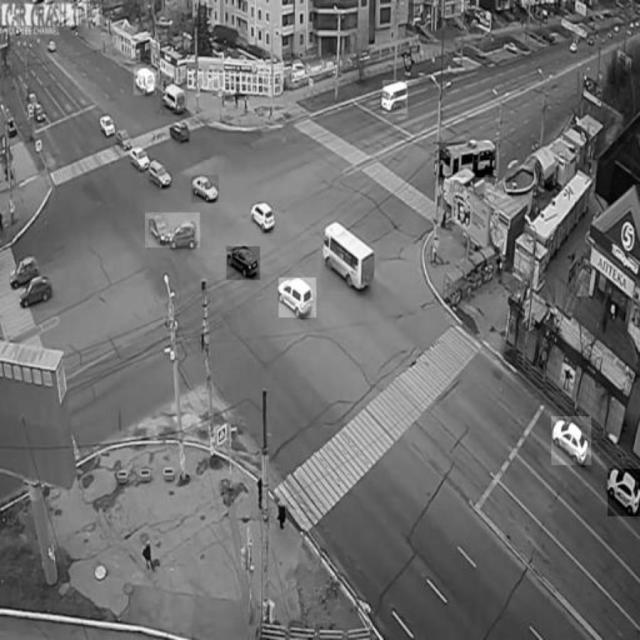accident: (146, 212, 201, 248)
vehicle: (318, 218, 380, 294), (439, 143, 496, 178), (552, 417, 592, 465), (608, 470, 640, 517), (279, 277, 316, 317), (226, 246, 260, 280), (382, 80, 408, 114), (192, 175, 219, 202), (160, 86, 187, 111), (253, 202, 275, 232), (134, 68, 156, 95)
